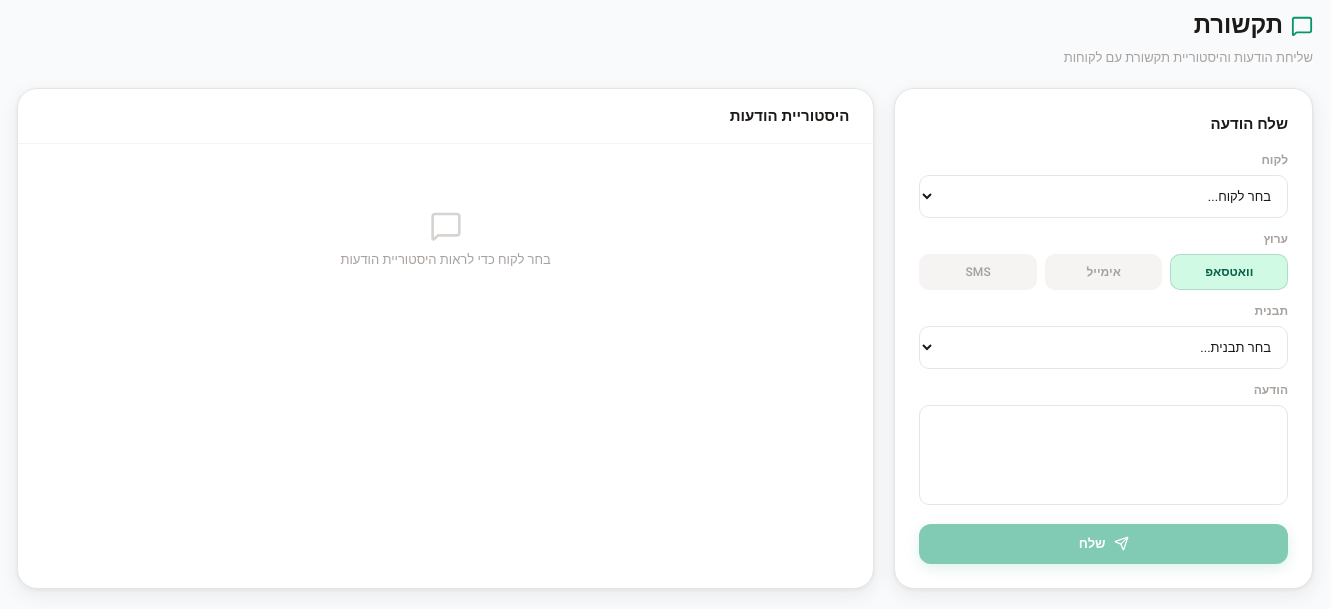
Scenario: CommunicationPage message thread › loads the thread for the selected customer
The image size is (1331, 609).
Select "דנה כהן · 0501111111" in the dropdown labelled "לקוח" at (1104, 196), box [919,175,1288,218]
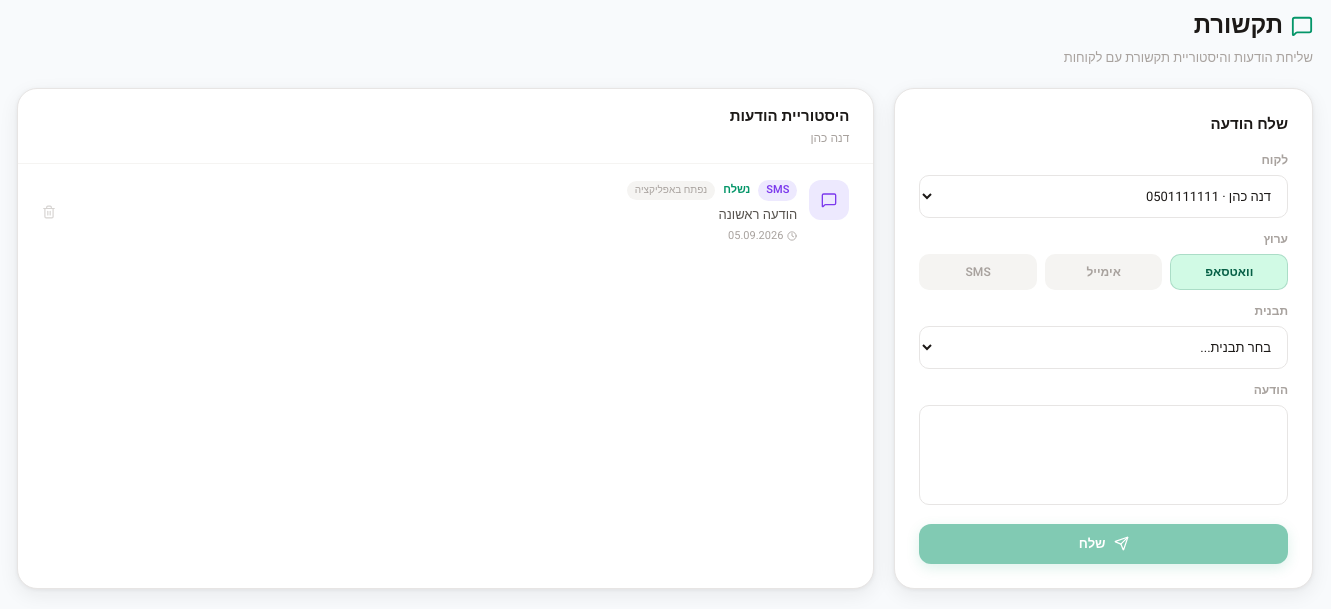
Now the text "הודעה ראשונה" is shown, box [718,204,797,224]
